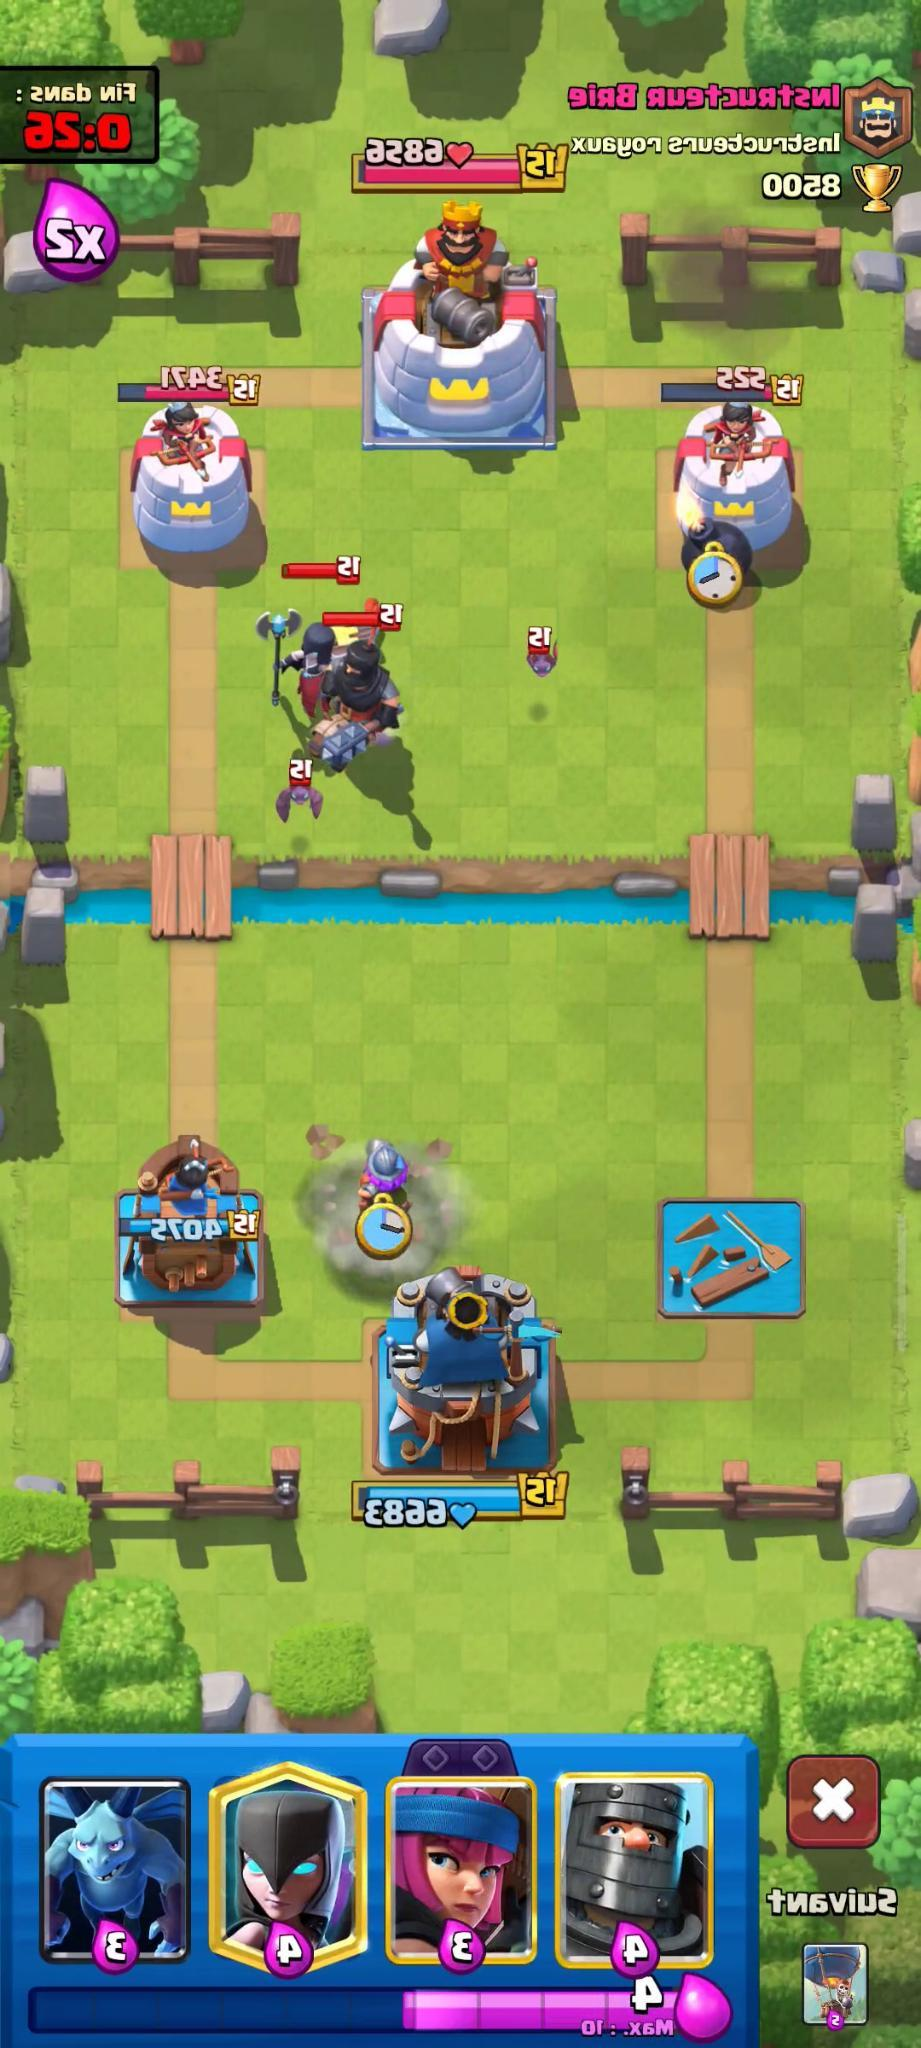enemy_bats: (268, 750, 330, 836), (510, 620, 580, 680)
enemy_dark_prince: (303, 595, 409, 775)
enemy_night_witch: (255, 557, 338, 720)
player_musketeer: (354, 1127, 418, 1216)
